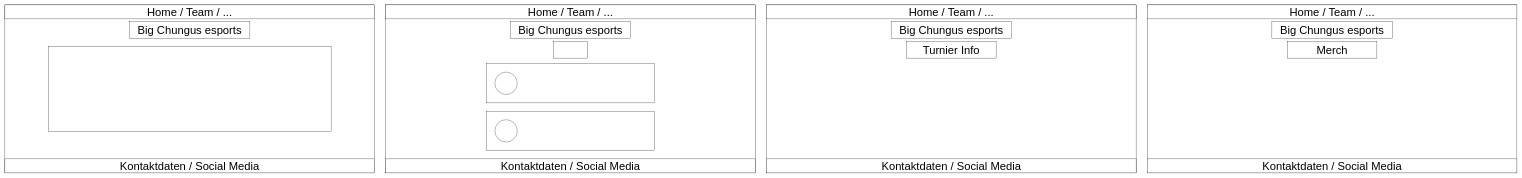
Image size: 1522x178. Some labels were removed from this diagram. The shapes that lost their labels are listed below. From the top down, each one's box as (x1, y1, x2, y2) in pixels, then its label:
(553, 41, 587, 58): Team
(48, 46, 331, 132): Lorem Ipsum
